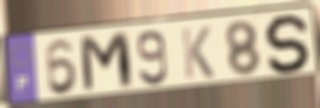6: (44, 38, 79, 98)
8: (223, 17, 263, 79)
9: (135, 29, 169, 86)
K: (179, 25, 216, 81)
M: (76, 29, 137, 97)
S: (263, 13, 314, 75)
